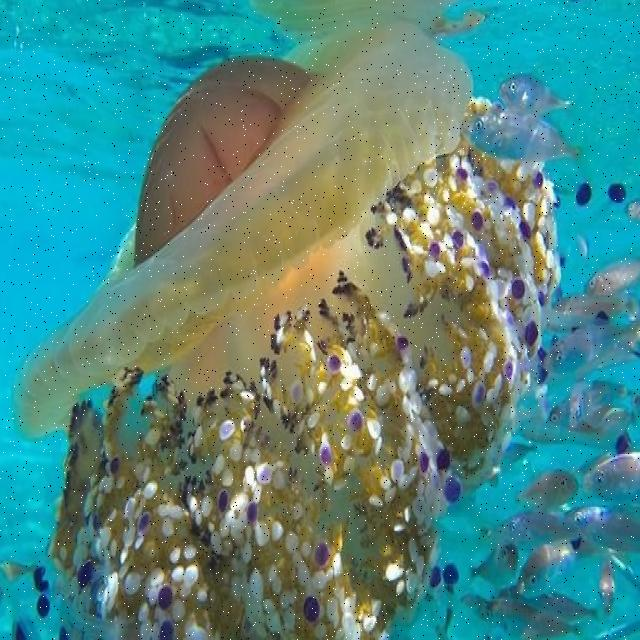fish: (543, 319, 638, 375), (515, 536, 595, 601), (467, 118, 584, 162), (545, 381, 637, 432), (493, 586, 600, 621), (475, 602, 586, 635), (572, 507, 638, 553), (500, 74, 569, 115), (549, 293, 637, 325), (511, 469, 580, 507), (503, 512, 579, 545), (588, 454, 639, 502), (472, 545, 521, 586), (584, 263, 639, 297), (598, 558, 617, 617), (625, 197, 639, 224)
reefs: (7, 23, 584, 638)
